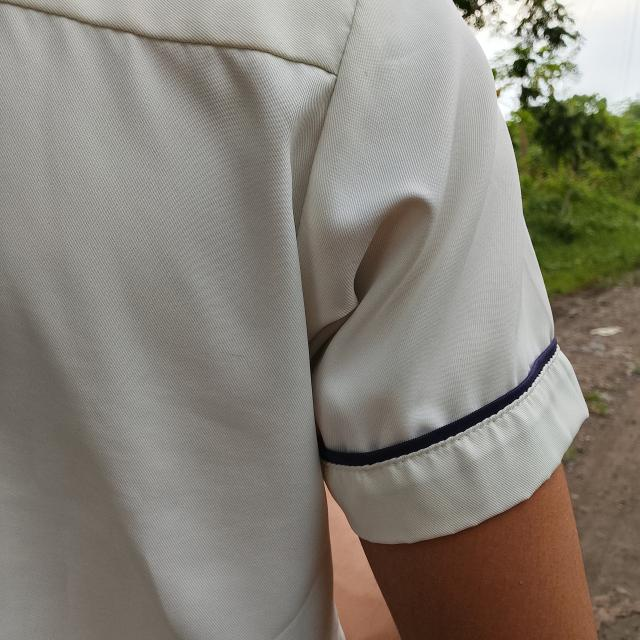education_male_uniform: (131, 30, 598, 560)
